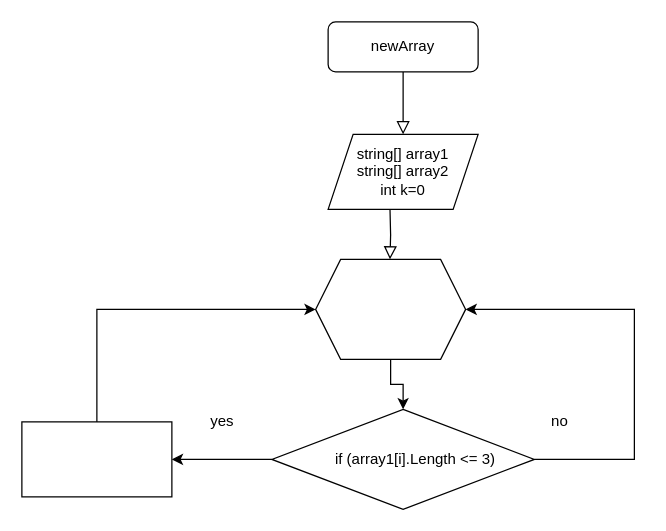
Some shapes in this 666 by 531 pixel diagram are drawn without their labels. The shapes that lost their labels are listed below. From the top down, each one's centre as x and y in pixels, then its label:
At point 390,308: "for (int i = 0; i < array1.Length; i++)".
At point 96,459: "array2[k] = array1[i]; k++;".
